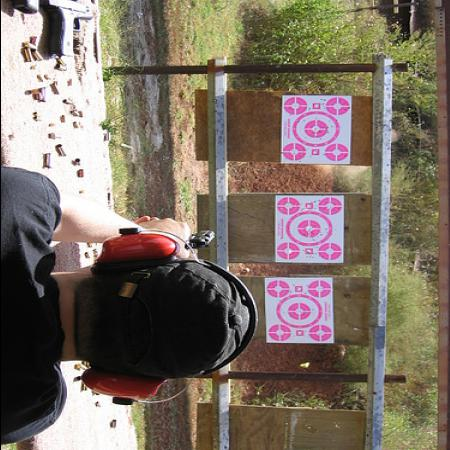Pistol: (40, 1, 94, 59), (185, 232, 217, 250)
